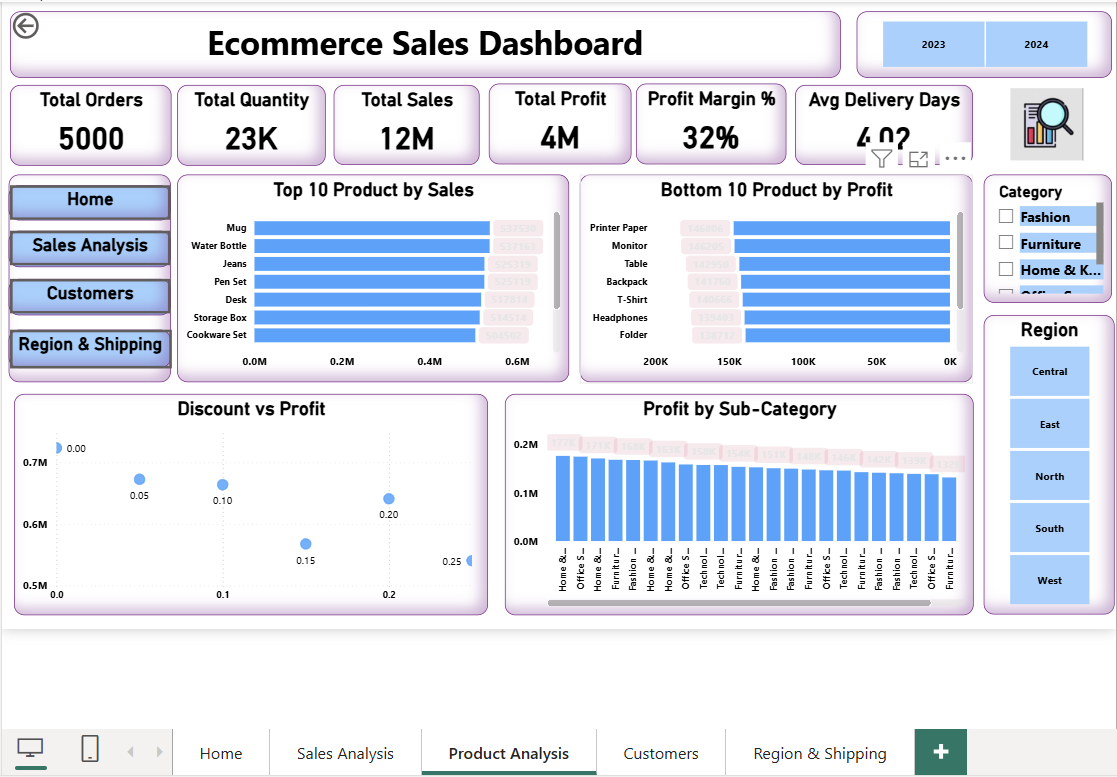

This screenshot's page, from the dashboard's own definition file:
{"tool":"powerbi","page":{"name":"Product Analysis","canvas":[1280,720],"ordinal":2},"visuals":[{"type":"textbox","box":[9,10,954,76],"z":0},{"type":"slicer","fields":{"Values":["Sheet1.Year"]},"box":[980.8,10.9,293.2,76],"z":1000},{"type":"card","title":"Total Orders","fields":{"Values":["Count(Sheet1.Order ID)"]},"box":[8.6,95.7,185.7,92.9],"z":2000},{"type":"card","title":"Total Quantity","fields":{"Values":["Sum(Sheet1.Quantity)"]},"box":[201.5,95.3,170.1,92.9],"z":3000},{"type":"card","title":"Total Sales","fields":{"Values":["Sum(Sheet1.Sales)"]},"box":[381.2,95.3,167.7,91.7],"z":4000},{"type":"card","title":"Total Profit","fields":{"Values":["Sum(Sheet1.Profit)"]},"box":[558.6,94.1,164.1,92.9],"z":5000},{"type":"card","title":"Profit Margin %","fields":{"Values":["Sheet1.Profit Margin"]},"box":[728.7,94.1,172.5,92.9],"z":6000},{"type":"card","title":"Avg Delivery Days","fields":{"Values":["Sheet1.Average Delivery Days"]},"box":[910.9,95.3,203.9,91.7],"z":7000},{"type":"slicer","fields":{"Values":["Sheet1.Category"]},"box":[1127.1,198.6,147.1,147.1],"z":8000},{"type":"slicer","title":"Region","fields":{"Values":["Sheet1.Region"]},"box":[1127.1,360,150,344.3],"z":9000},{"type":"columnChart","title":"Profit by Sub-Category","fields":{"Category":["Sheet1.Sub-Category"],"Y":["Sum(Sheet1.Profit)"]},"box":[577.1,450,538.6,254.3],"z":10000},{"type":"barChart","title":"Bottom 10  Product by Profit","fields":{"Category":["Sheet1.Product Name"],"Y":["Sum(Sheet1.Profit)"]},"box":[664.3,198.6,451.4,238.6],"z":11000},{"type":"barChart","title":"Top 10 Product by Sales","fields":{"Category":["Sheet1.Product Name"],"Y":["Sum(Sheet1.Sales)"]},"box":[201.4,198.6,450,238.6],"z":12000},{"type":"scatterChart","title":"Discount vs Profit","fields":{"X":["Sheet1.Discount"],"Y":["Sheet1.Profit"]},"box":[14.3,450,544.3,254.3],"z":13000},{"type":"image","box":[1127.8,93.3,145.6,93.3],"z":14000},{"type":"shape","box":[8.3,198.6,186.1,238.8],"z":15000},{"type":"shape","title":"Home","box":[8.3,211.1,186.1,40.3],"z":16000},{"type":"shape","title":"Sales Analysis","box":[8.3,262.4,186.1,41.7],"z":17000},{"type":"shape","title":"Customers","box":[8.3,318,186.1,41.7],"z":18000},{"type":"shape","title":"Region & Shipping","box":[8.3,376.3,186.1,44.4],"z":19000},{"type":"actionButton","box":[8.2,8.2,63.1,39.8],"z":20000},{"type":"actionButton","box":[9.2,210.4,184.3,39.9],"z":21000},{"type":"actionButton","box":[9.2,262.7,184.3,39.9],"z":22000},{"type":"actionButton","box":[9.2,318,184.3,39.9],"z":23000},{"type":"actionButton","box":[9.2,376.4,185.9,44.5],"z":24000}]}

Visuals, with their boxes on the page's 1280x720 design canvas (x1, y1, x2, y2). These are canvas units, not pixel positions in the 1117x777 screenshot, which may show the page scaled, cropped or inside an application window:
textbox: Rect(9, 10, 963, 86)
slicer - Sheet1.Year: Rect(981, 11, 1274, 87)
"Total Orders" card: Rect(9, 96, 194, 189)
"Total Quantity" card: Rect(202, 95, 372, 188)
"Total Sales" card: Rect(381, 95, 549, 187)
"Total Profit" card: Rect(559, 94, 723, 187)
"Profit Margin %" card: Rect(729, 94, 901, 187)
"Avg Delivery Days" card: Rect(911, 95, 1115, 187)
slicer - Sheet1.Category: Rect(1127, 199, 1274, 346)
"Region" slicer: Rect(1127, 360, 1277, 704)
"Profit by Sub-Category" columnChart: Rect(577, 450, 1116, 704)
"Bottom 10  Product by Profit" barChart: Rect(664, 199, 1116, 437)
"Top 10 Product by Sales" barChart: Rect(201, 199, 651, 437)
"Discount vs Profit" scatterChart: Rect(14, 450, 559, 704)
image: Rect(1128, 93, 1273, 187)
shape: Rect(8, 199, 194, 437)
"Home" shape: Rect(8, 211, 194, 251)
"Sales Analysis" shape: Rect(8, 262, 194, 304)
"Customers" shape: Rect(8, 318, 194, 360)
"Region & Shipping" shape: Rect(8, 376, 194, 421)
actionButton: Rect(8, 8, 71, 48)
actionButton: Rect(9, 210, 194, 250)
actionButton: Rect(9, 263, 194, 303)
actionButton: Rect(9, 318, 194, 358)
actionButton: Rect(9, 376, 195, 421)
